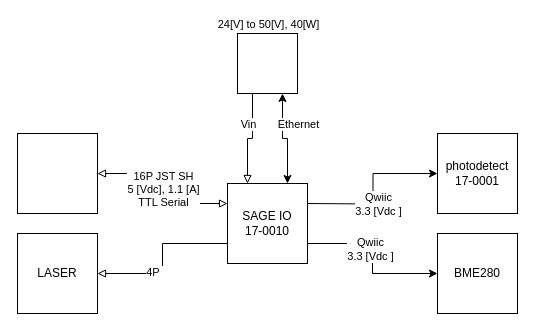
The diagram is 535 pixels wide and 331 high, and some of its shapes have lost their labels. The shapes that lost their labels are listed below. From the top down, each one's box as (x1, y1, x2, y2) in pixels, then its label:
(236, 32, 298, 94): 13 Pin Bulkhead
(16, 132, 98, 214): Red Pitaya
